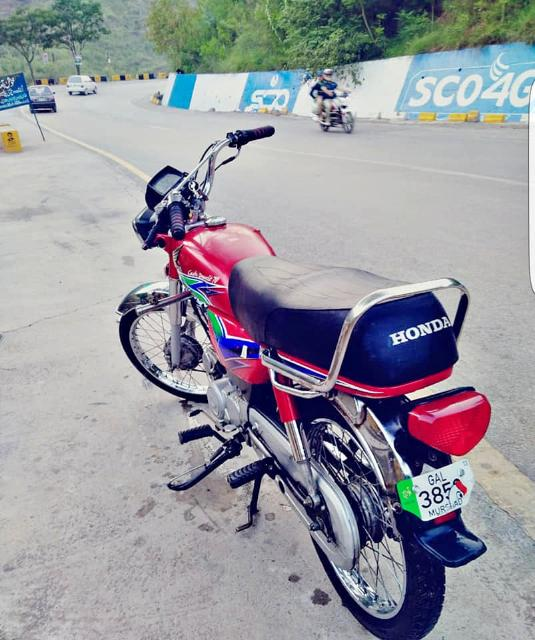plate: (388, 458, 488, 522)
